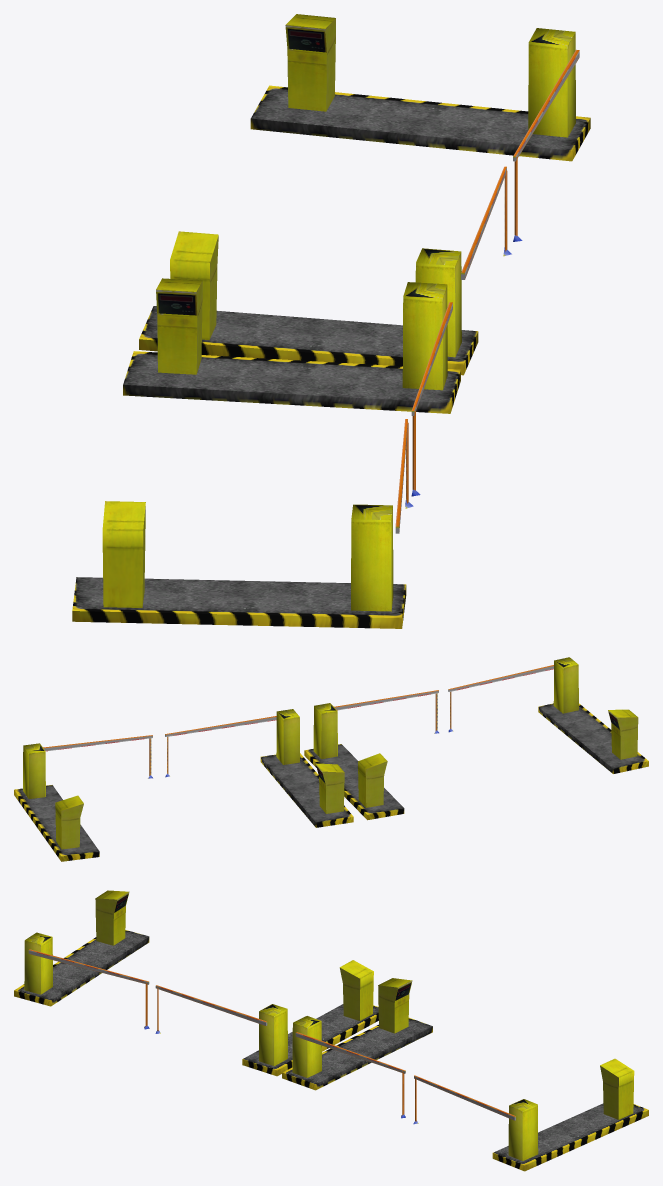
The model's file is west_ta.FBX.
The picture shows the model from 3 angles, top to bottom: view 1: azimuth 30°, elevation 25°; view 2: azimuth 150°, elevation 25°; view 3: azimuth 270°, elevation 25°; orthographic projection. The views are drawn at different scales.
Visible parts, largest first — view 1: west_ta; view 2: west_ta; view 3: west_ta.
Part boxes in pixels (x1,y1,x2,y2): west_ta: [72, 14, 590, 628]; west_ta: [14, 657, 648, 861]; west_ta: [14, 890, 648, 1171].
Bounding box in the file's own units: 12.59 × 1.37 × 14.12.
